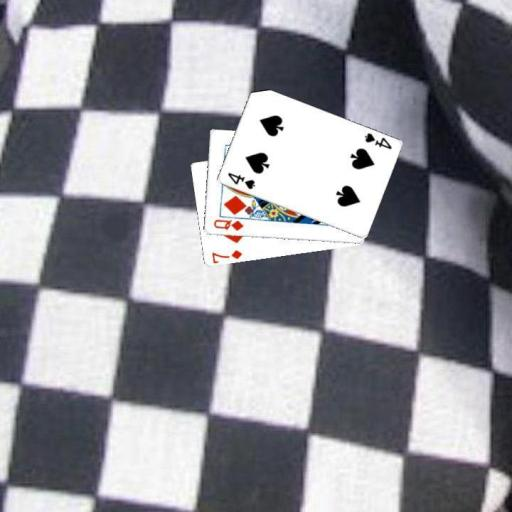card-corner: (224, 169, 256, 191), (361, 129, 393, 151), (208, 247, 244, 264), (210, 216, 244, 233)
